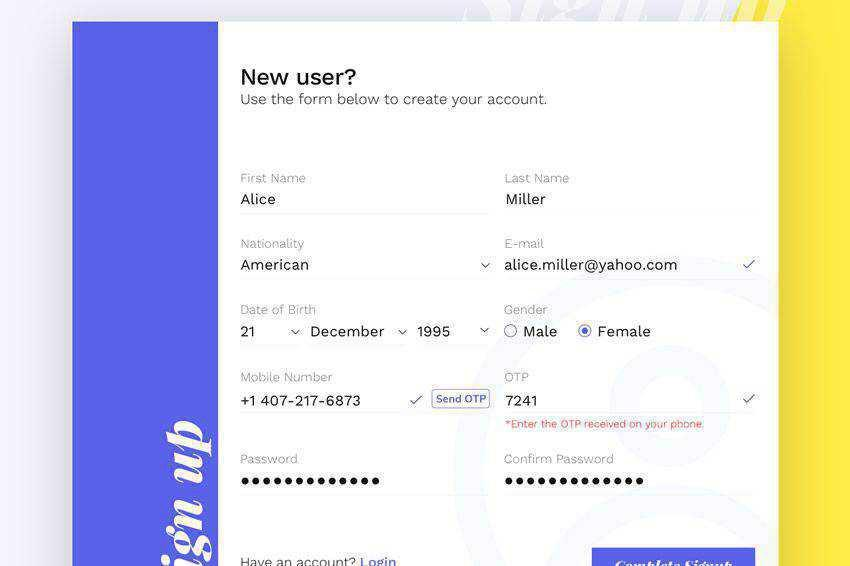button: (594, 549, 757, 566)
label: (503, 454, 619, 468), (240, 371, 336, 386), (236, 171, 310, 188), (503, 171, 574, 188), (238, 304, 319, 318), (237, 239, 307, 253), (598, 324, 652, 342), (501, 302, 552, 320), (240, 453, 302, 467), (521, 323, 563, 341), (504, 235, 548, 252), (503, 368, 530, 384)
radio: (578, 324, 594, 339), (504, 325, 519, 339)
